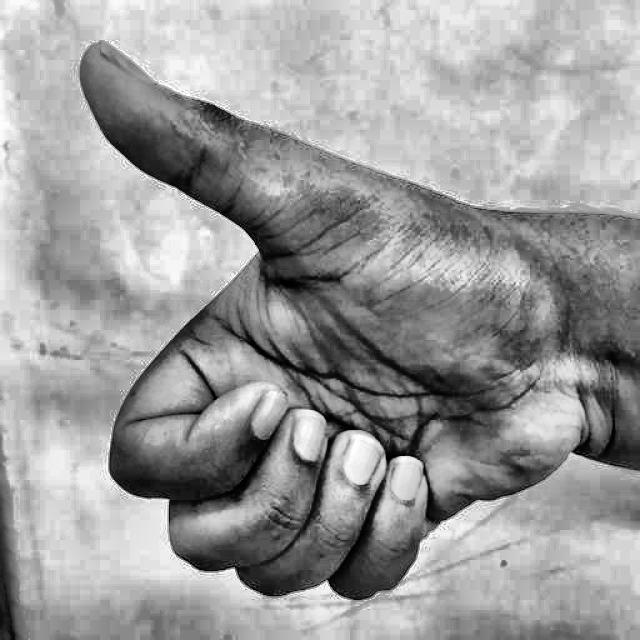Do: (49, 28, 587, 622)
